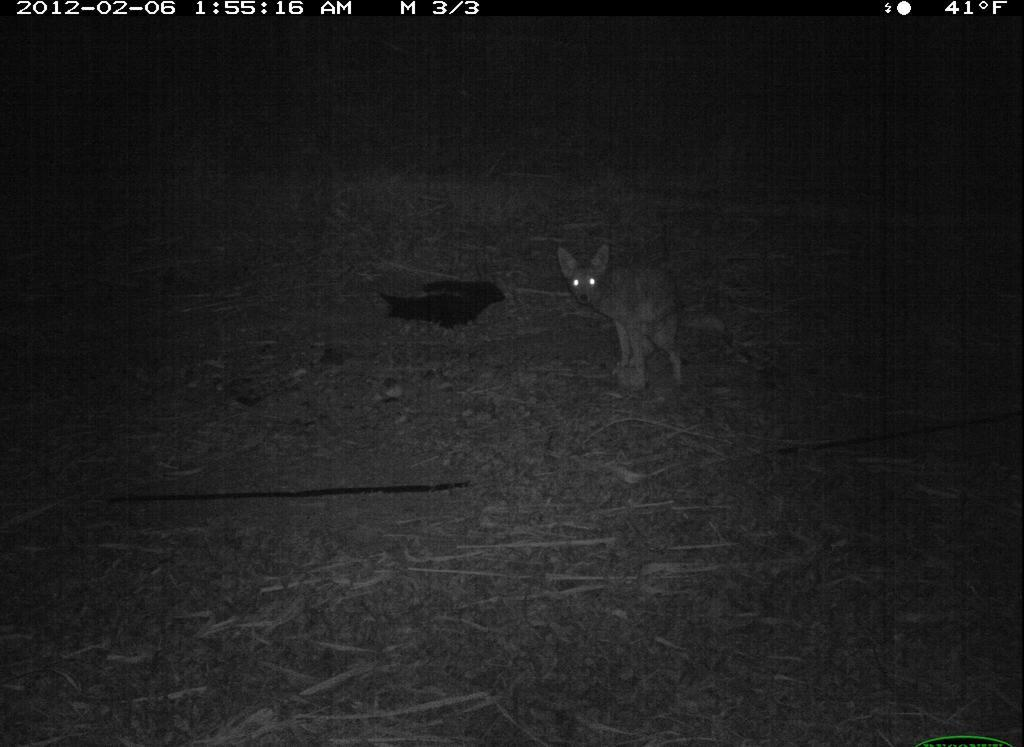coyote: (546, 236, 716, 400)
